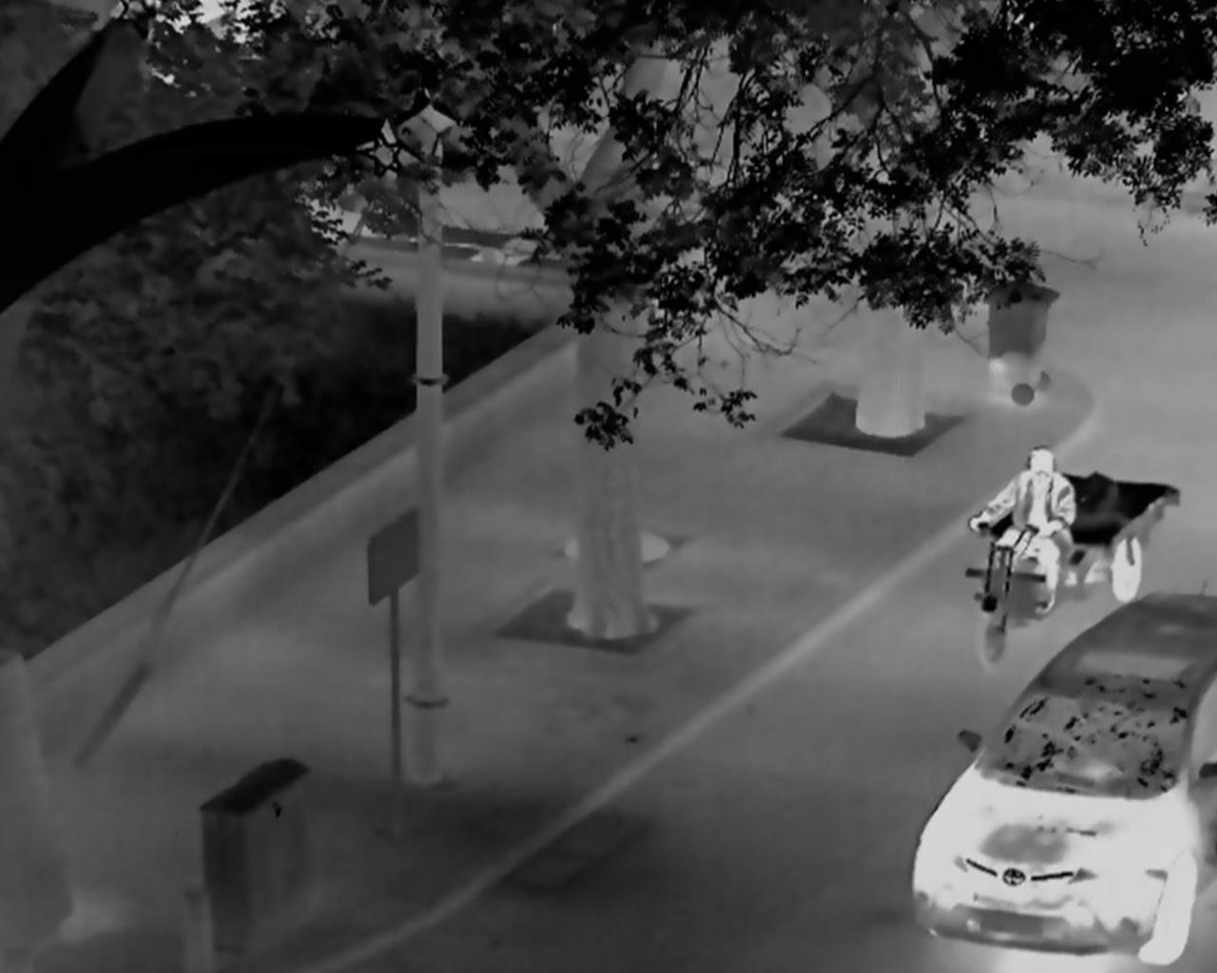person: (970, 447, 1073, 618)
